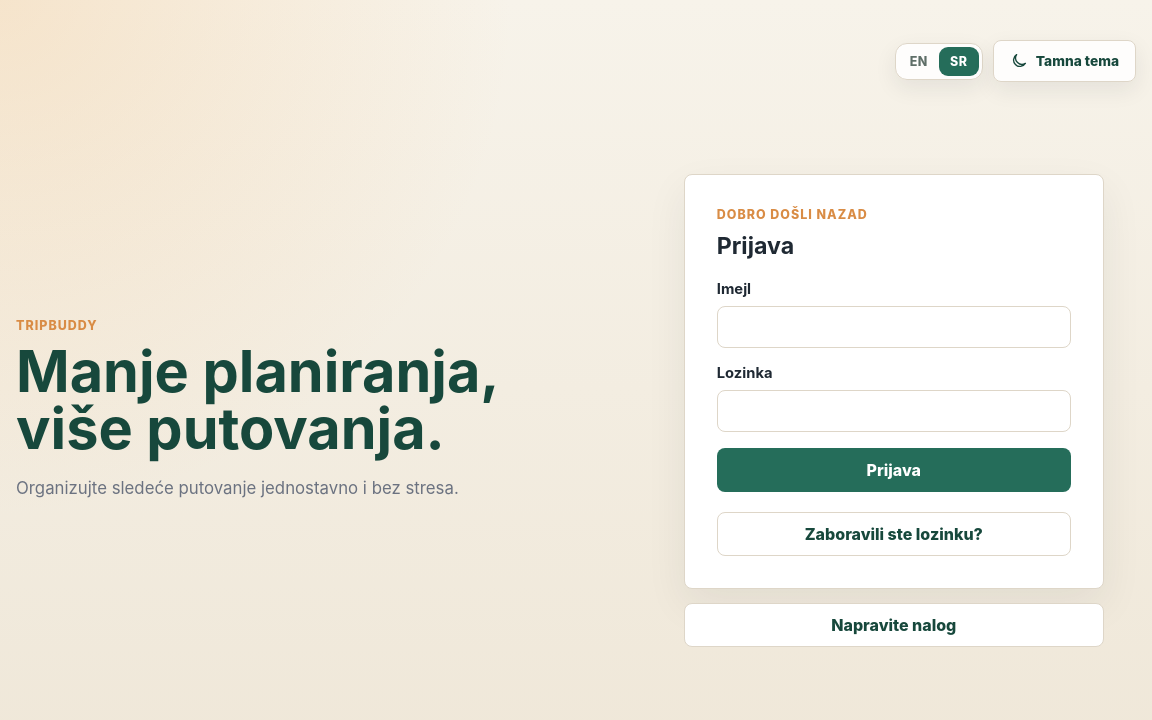
Test: TripBuddy frontend › switches back to English
Click the button with aria-label "Promeni jezik na Engleski" at x=919, y=61, box [899,46,939,76]
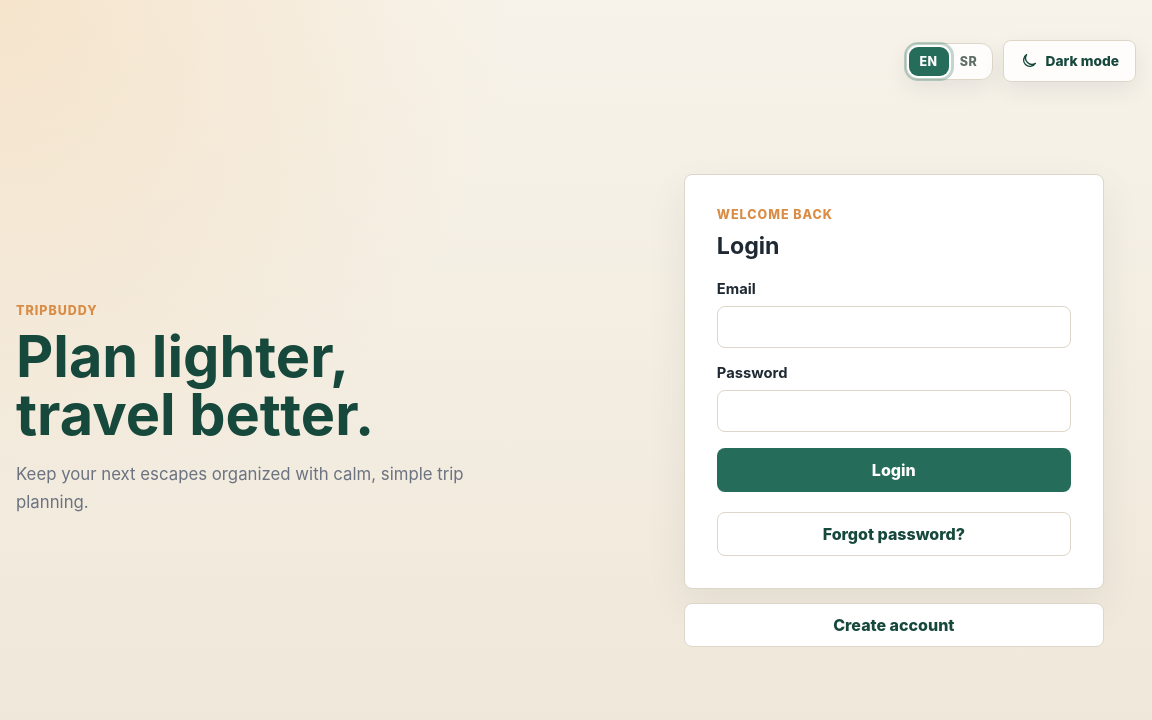
Now the heading "Login" is shown, box [717,232,780,260]
